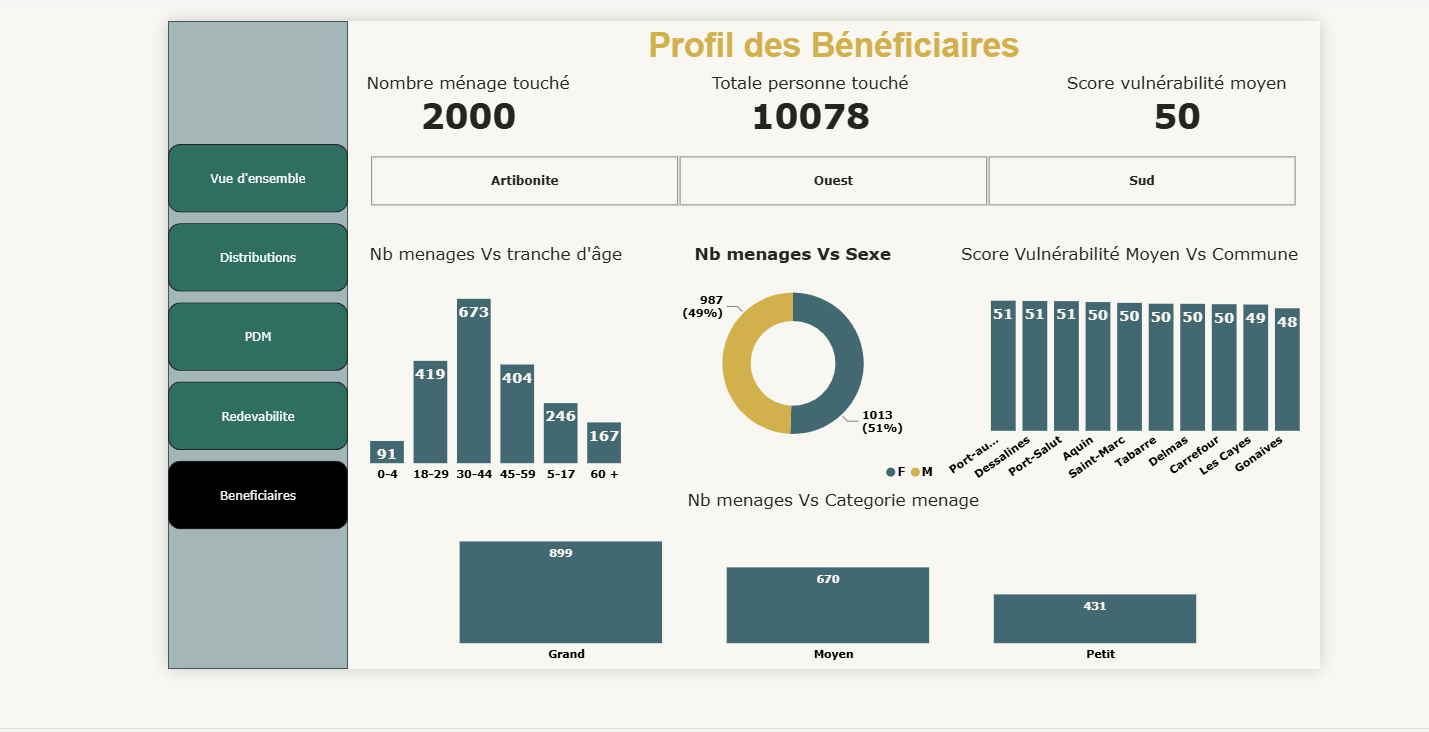

The dashboard page shown, as its layout file describes it:
{"tool":"powerbi","page":{"name":"Beneficiaires","canvas":[1280,720],"ordinal":4},"visuals":[{"type":"textbox","box":[0,0,1279.7,63.9],"z":0},{"type":"card","title":"Nombre ménage touché","fields":{"Values":["_Mesures.Nb_menages_touchés"]},"box":[9.6,63.9,266.8,79.9],"z":1000},{"type":"card","title":"Totale personne touché","fields":{"Values":["_Mesures.Tot_personnes_touchées"]},"box":[458.5,63.9,289.2,79.9],"z":2000},{"type":"card","title":"Score vulnérabilité moyen","fields":{"Values":["_Mesures.Score_Vulnerabilite_Moyen"]},"box":[961.8,63.9,317.9,79.9],"z":3000},{"type":"slicer","fields":{"Values":["dim_beneficiaries.departement"]},"box":[6.4,143.8,1270.1,68.7],"z":4000},{"type":"clusteredColumnChart","title":"Nb menages Vs tranche d''âge","fields":{"Category":["dim_beneficiaries.tranche_age"],"Y":["_Mesures.Nb_menages_touchés"]},"box":[9.8,247.2,395.3,273.3],"z":5000},{"type":"donutChart","title":"Nb menages Vs Sexe","fields":{"Category":["dim_beneficiaries.sexe"],"Y":["_Mesures.Nb_menages_touchés"]},"box":[405,247.2,388.7,273.3],"z":6000},{"type":"clusteredColumnChart","title":"Score Vulnérabilité Moyen Vs Commune","fields":{"Category":["dim_beneficiaries.commune"],"Y":["_Mesures.Score_Vulnerabilite_Moyen"]},"box":[793.8,247.2,483.1,292.8],"z":7000},{"type":"clusteredColumnChart","title":"Nb menages Vs Categorie menage","fields":{"Category":["dim_beneficiaries.Categorie_menage"],"Y":["_Mesures.Nb_menages_touchés"]},"box":[10.1,520.5,1267.7,199.8],"z":8000}]}

Visuals, with their boxes on the page's 1280x720 design canvas (x1, y1, x2, y2). These are canvas units, not pixel positions in the 1429x732 screenshot, which may show the page scaled, cropped or inside an application window:
textbox: x1=0, y1=0, x2=1280, y2=64
"Nombre ménage touché" card: x1=10, y1=64, x2=276, y2=144
"Totale personne touché" card: x1=458, y1=64, x2=748, y2=144
"Score vulnérabilité moyen" card: x1=962, y1=64, x2=1280, y2=144
slicer - dim_beneficiaries.departement: x1=6, y1=144, x2=1276, y2=212
"Nb menages Vs tranche d''âge" clusteredColumnChart: x1=10, y1=247, x2=405, y2=520
"Nb menages Vs Sexe" donutChart: x1=405, y1=247, x2=794, y2=520
"Score Vulnérabilité Moyen Vs Commune" clusteredColumnChart: x1=794, y1=247, x2=1277, y2=540
"Nb menages Vs Categorie menage" clusteredColumnChart: x1=10, y1=520, x2=1278, y2=720
